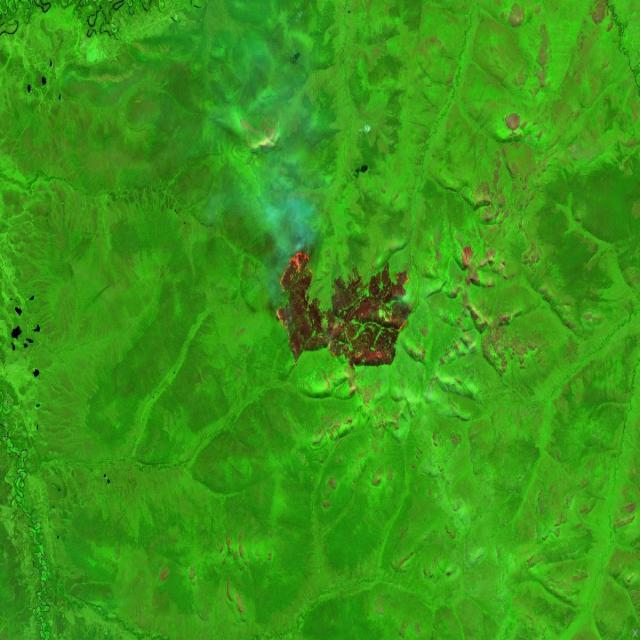fire: (272, 246, 413, 370)
